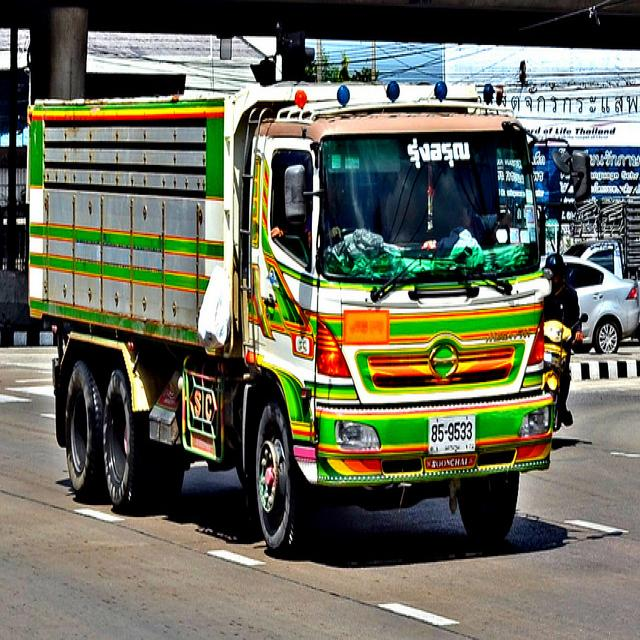motor: (544, 312, 589, 431)
